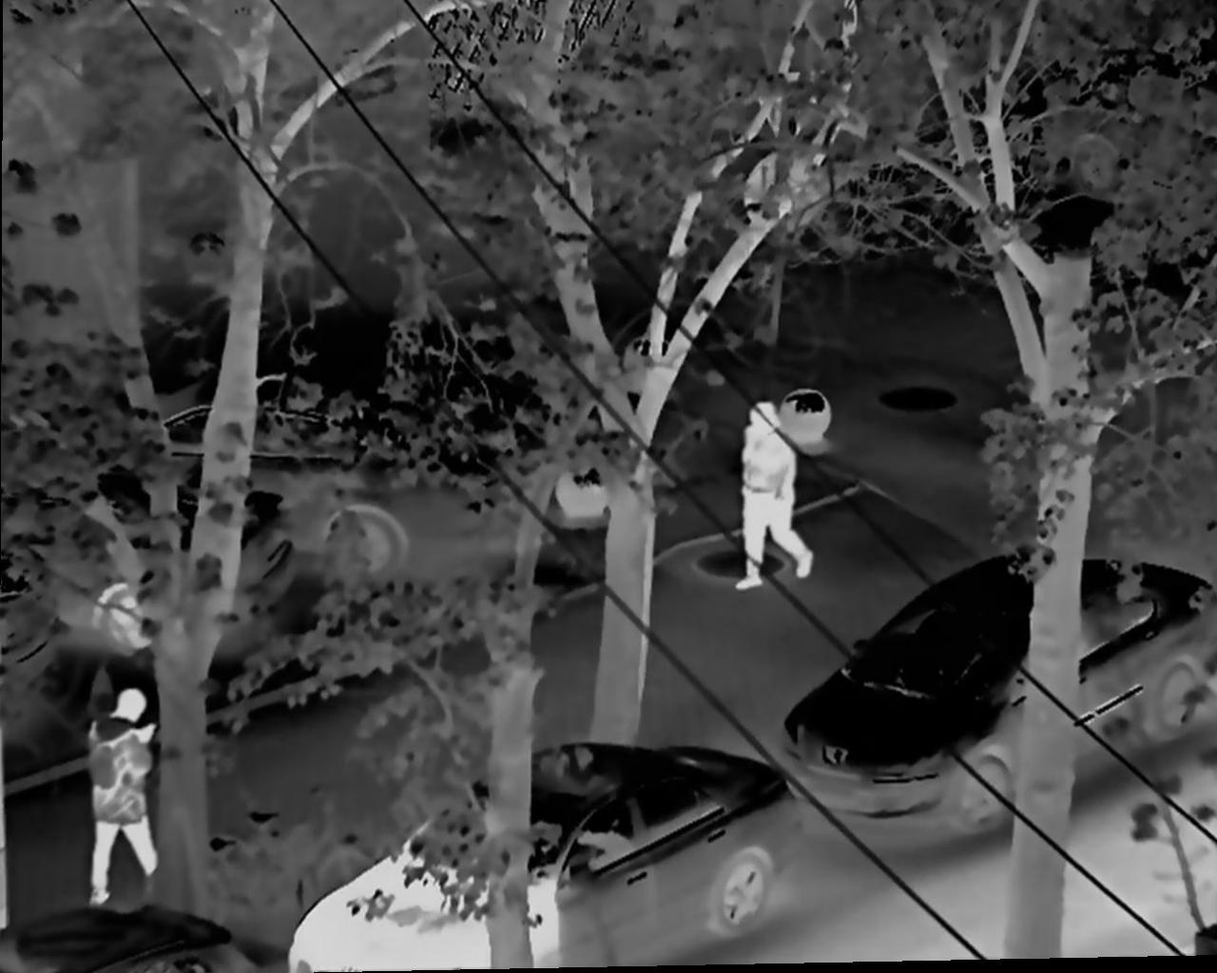person: (75, 687, 164, 889), (723, 402, 817, 592)
